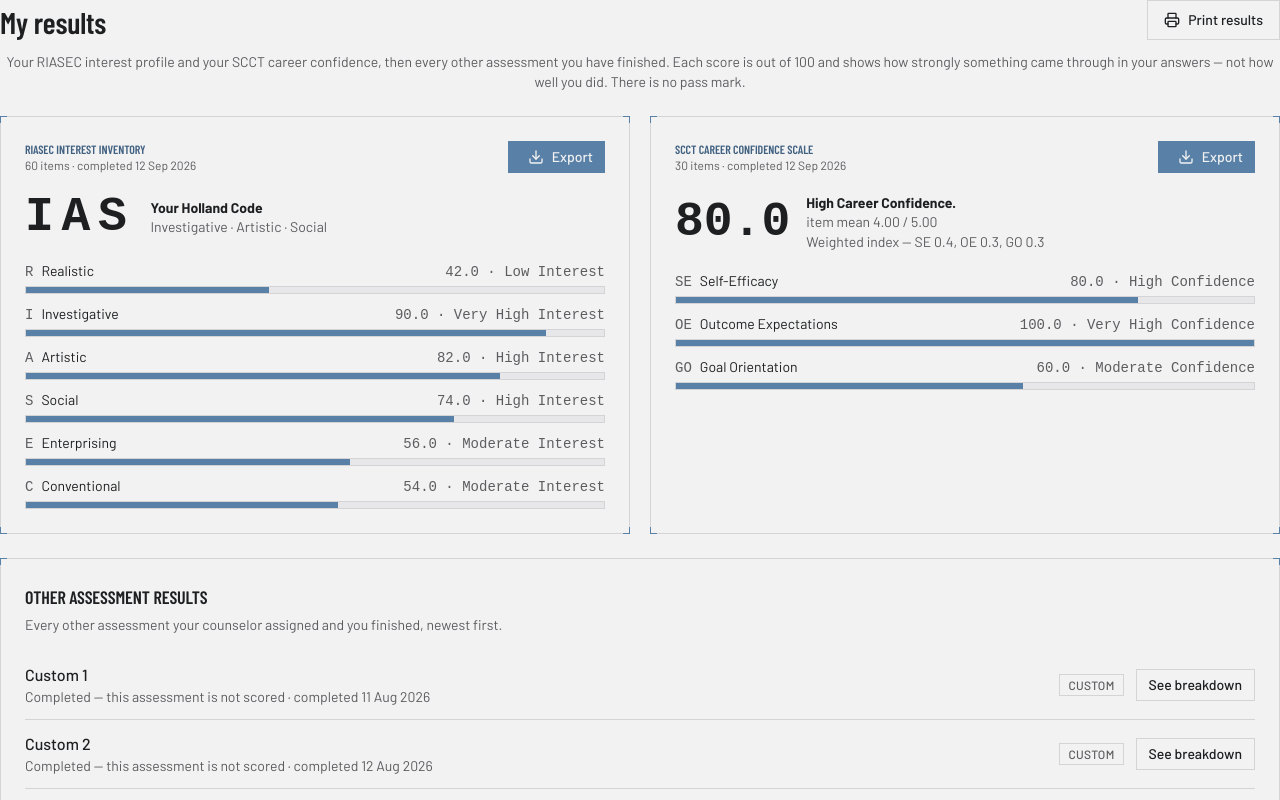
ResultListPage › opens the export dialog on the report whose card it was pressed from
Click the button with aria-label "Export RIASEC results".
click(556, 157)  # box [508,141,605,173]
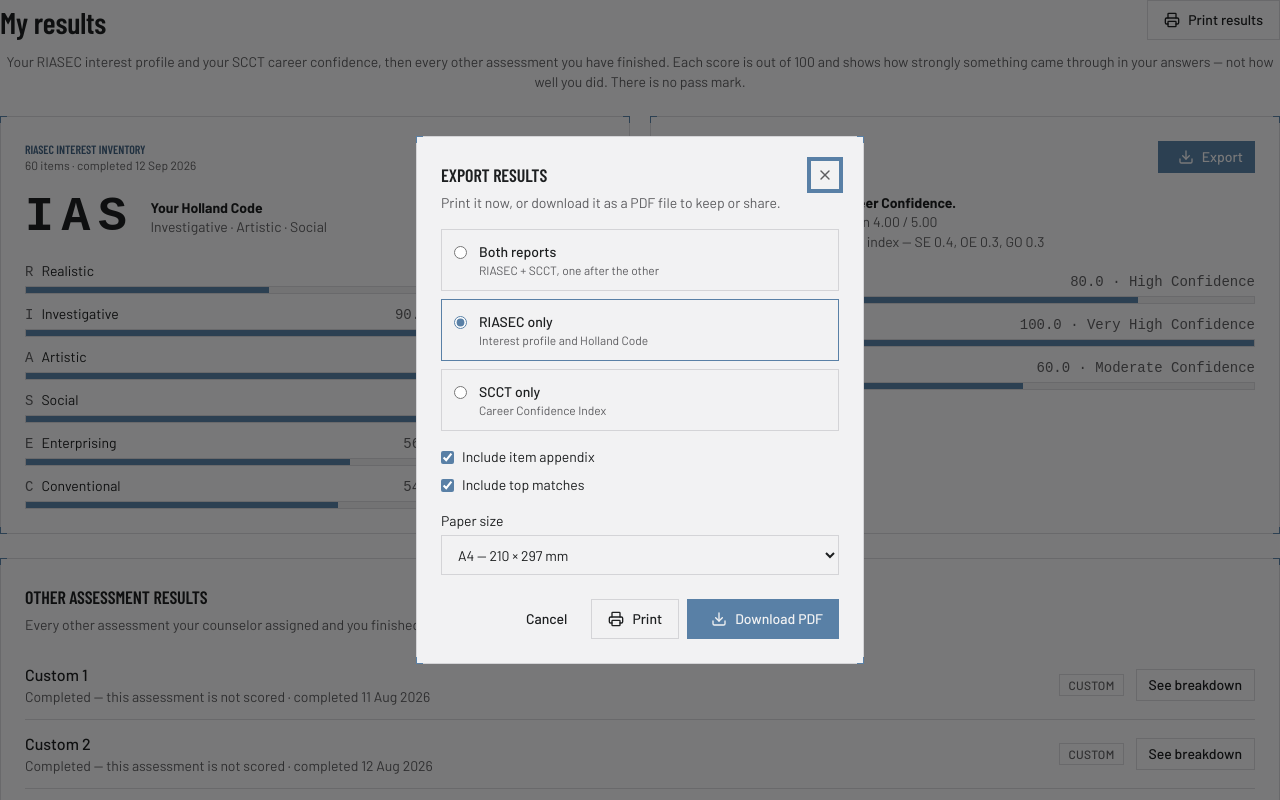
Check: the radio button labelled "RIASEC only Interest profile and Holland Code" is checked, box [454,316,467,329]
Click the button "Cancel".
click(547, 619)  # box [510,599,583,639]
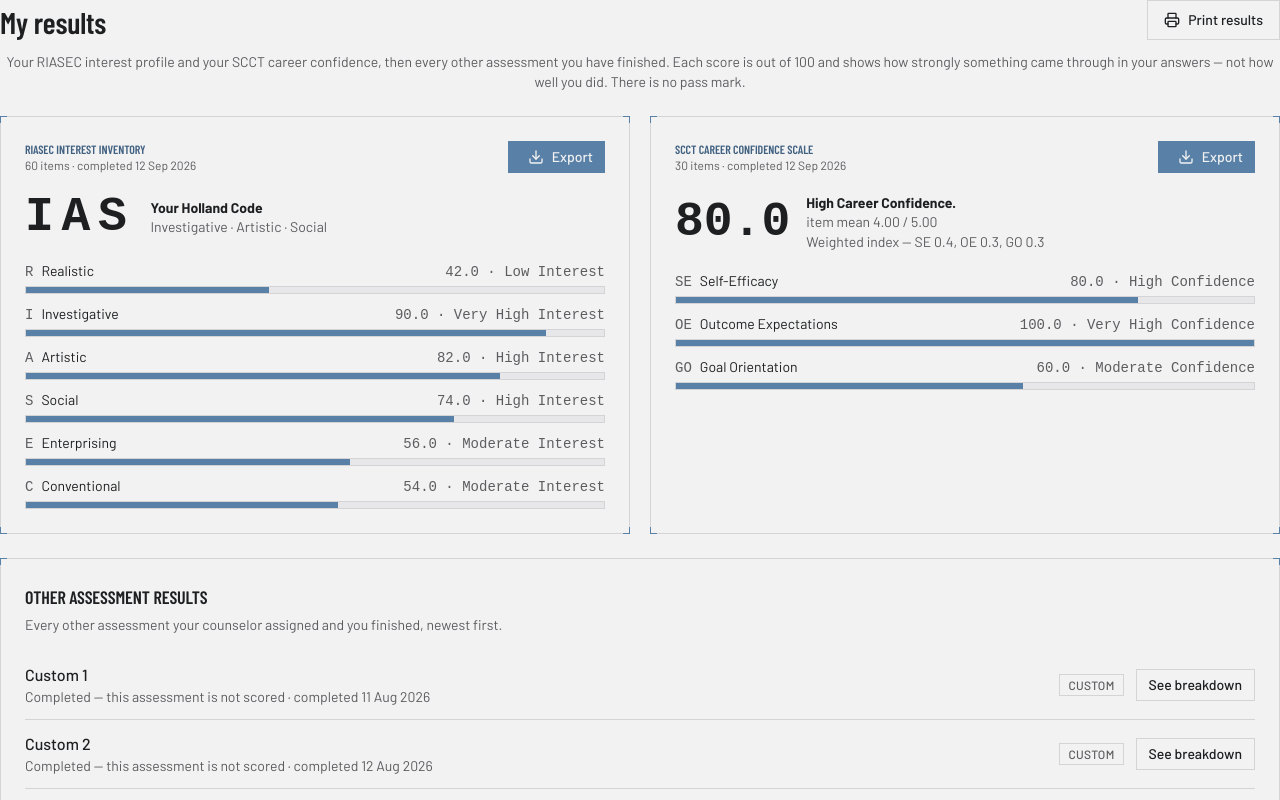
Check: the dialog is gone
Click the button with aria-label "Export SCCT results".
click(1206, 157)  # box [1158,141,1255,173]
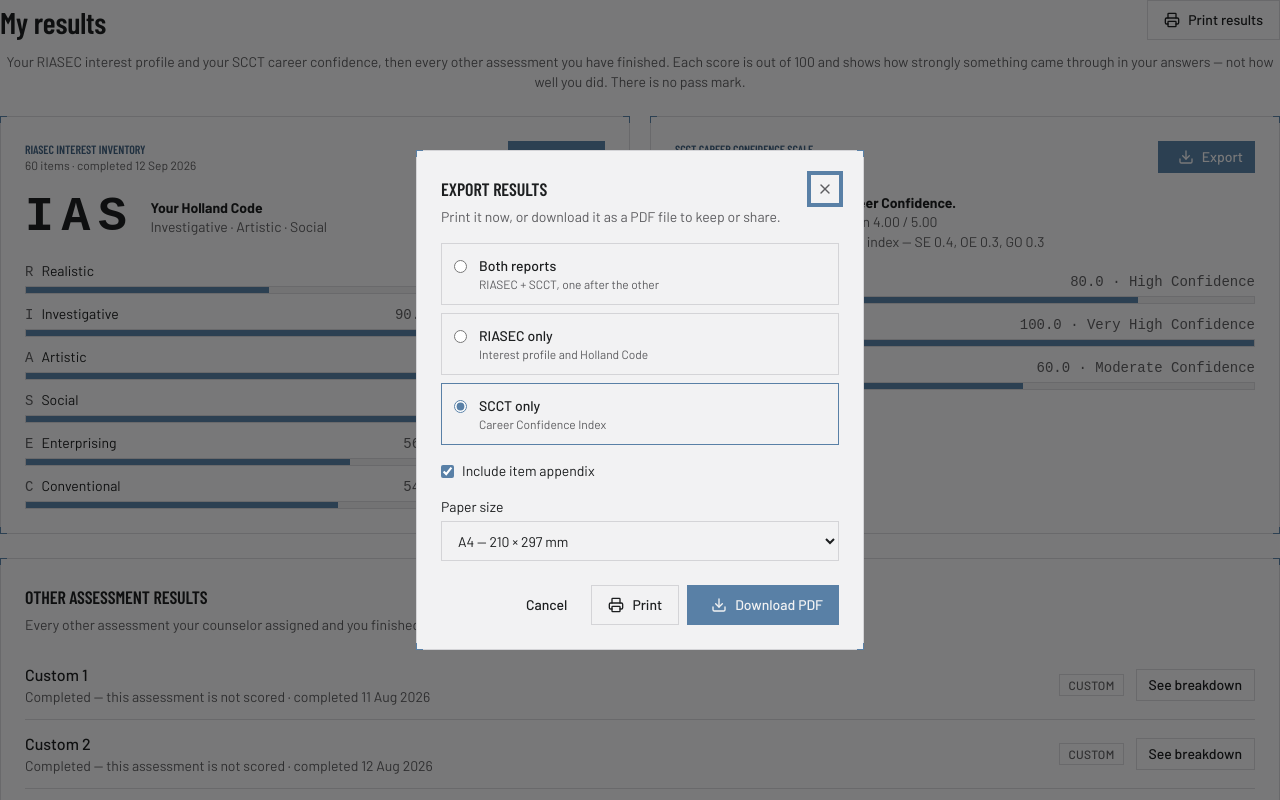
Check: the radio button labelled "SCCT only Career Confidence Index" is checked, box [454,400,467,413]
